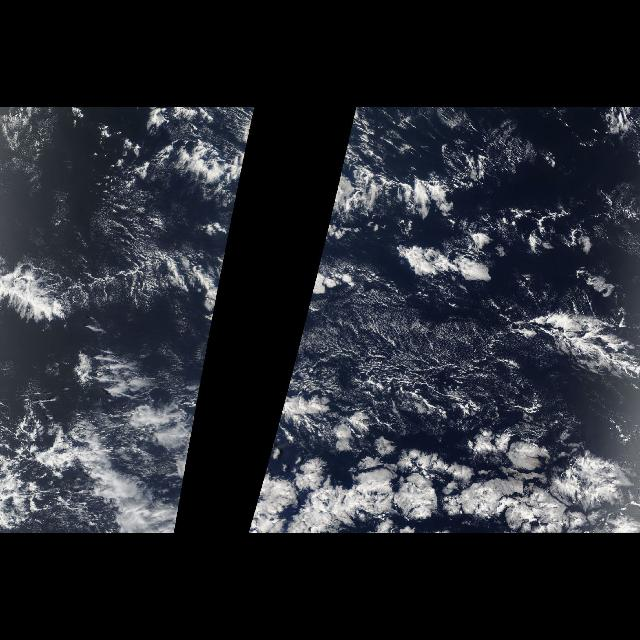Fish: (64, 241, 202, 319)
Sugar: (292, 294, 526, 440)
